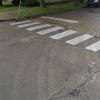crosswalk: (9, 20, 100, 51)
